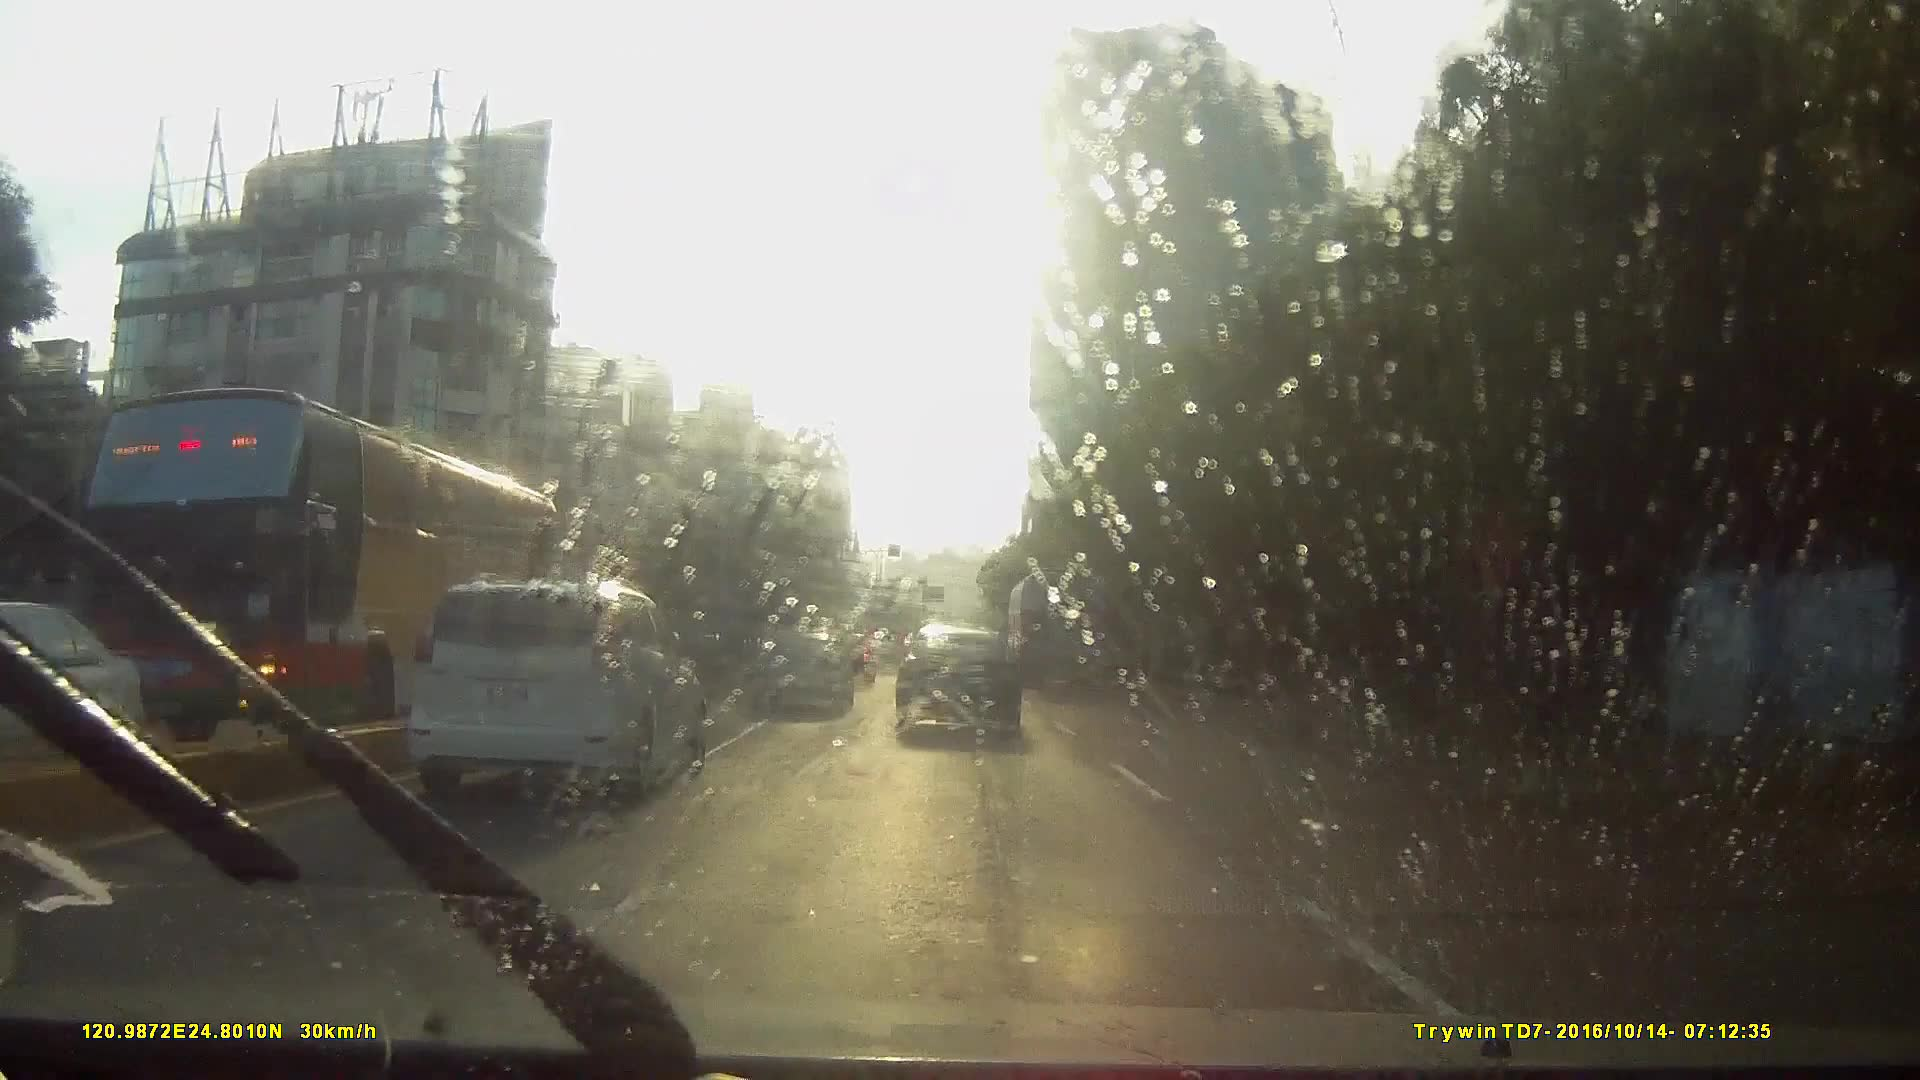vehicle: (51, 376, 593, 762), (251, 556, 684, 868), (407, 574, 708, 802), (0, 597, 90, 773), (894, 622, 1022, 738), (1007, 567, 1112, 694), (748, 630, 855, 717), (866, 638, 915, 687)
